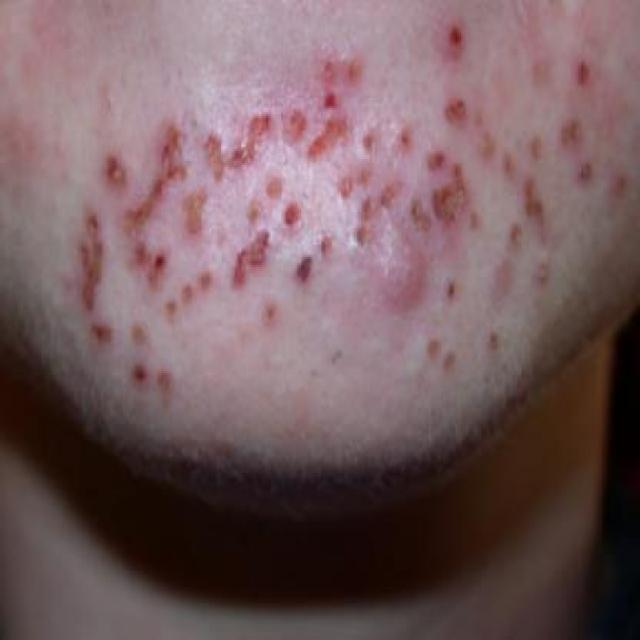blackheads: (402, 330, 476, 381), (421, 14, 497, 57), (383, 112, 428, 161), (563, 142, 603, 192), (94, 138, 131, 192), (549, 53, 608, 84), (283, 190, 315, 247), (312, 32, 345, 84), (332, 53, 376, 92), (148, 358, 182, 408), (346, 124, 386, 163), (262, 167, 300, 206), (280, 250, 312, 296), (554, 116, 597, 149), (328, 163, 362, 202), (223, 139, 260, 171), (442, 265, 469, 308), (509, 214, 534, 259), (303, 92, 352, 114), (312, 224, 340, 261), (172, 271, 194, 314), (482, 330, 509, 361), (197, 257, 218, 293), (123, 363, 148, 391), (163, 294, 180, 330)
nodules: (357, 232, 432, 330)
